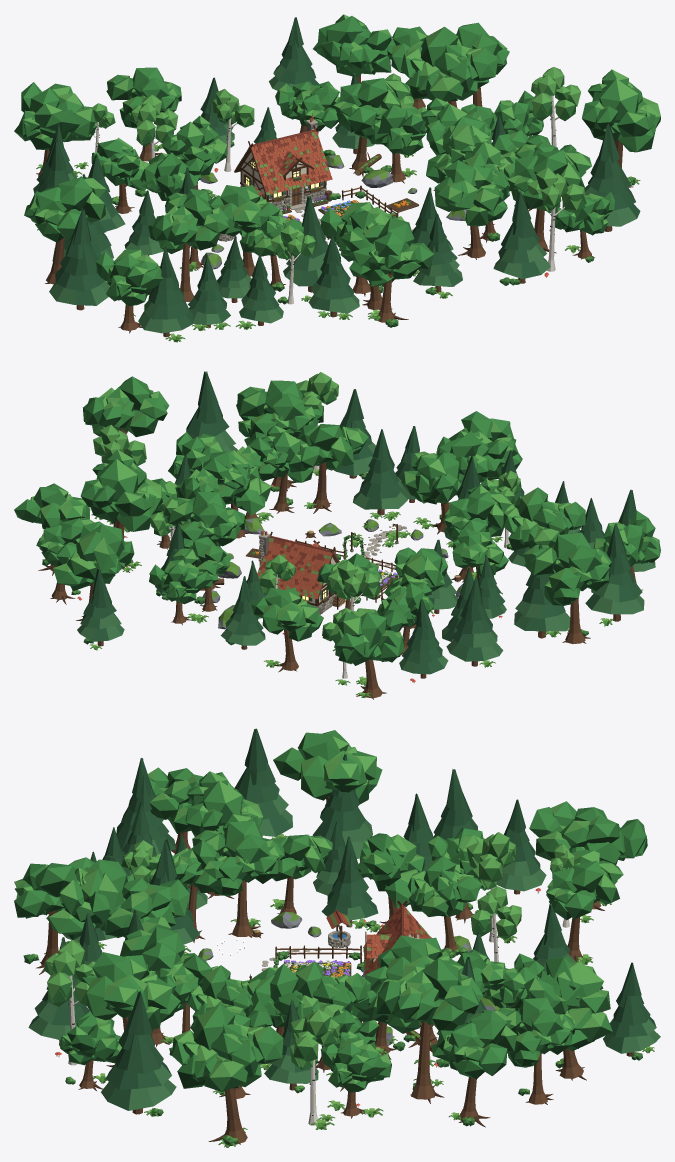
File: cottage_glade.glb
3 renders of one model, top to bottom at view 1: azimuth 30°, elevation 25°; view 2: azimuth 150°, elevation 25°; view 3: azimuth 270°, elevation 25°, orthographic. The views are drawn at different scales.
Visible parts, largest first — view 1: 小屋, 広葉樹.024, 広葉樹.023, 広葉樹.021, 広葉樹.025, 広葉樹.030, 広葉樹.006, 広葉樹.016, 広葉樹.020, 針葉樹.011, 広葉樹.026, 広葉樹.014 (+47 smaller); view 2: 広葉樹.030, 広葉樹.024, 広葉樹.025, 広葉樹.017, 広葉樹.023, 広葉樹.020, 小屋, 広葉樹.016, 広葉樹.006, 広葉樹.031, 広葉樹.014, 広葉樹.009 (+41 smaller); view 3: 広葉樹.023, 広葉樹.024, 広葉樹.025, 広葉樹.020, 広葉樹.030, 広葉樹.017, 針葉樹.012, 広葉樹.010, 広葉樹.018, 広葉樹.028, 広葉樹.009, 広葉樹.021 (+44 smaller).
Part boxes in pixels (x1=…): 小屋: x1=234, y1=116, x2=332, y2=210; 広葉樹.024: x1=401, y1=26, x2=497, y2=107; 広葉樹.023: x1=582, y1=69, x2=660, y2=187; 広葉樹.021: x1=349, y1=217, x2=434, y2=324; 広葉樹.025: x1=14, y1=82, x2=97, y2=176; 広葉樹.030: x1=24, y1=176, x2=106, y2=284; 広葉樹.006: x1=434, y1=160, x2=507, y2=259; 広葉樹.016: x1=148, y1=194, x2=229, y2=301; 広葉樹.020: x1=313, y1=14, x2=391, y2=83; 針葉樹.011: x1=49, y1=209, x2=109, y2=310; 広葉樹.026: x1=96, y1=249, x2=162, y2=333; 広葉樹.014: x1=333, y1=78, x2=409, y2=177; 広葉樹.030: x1=523, y1=532, x2=611, y2=643; 広葉樹.024: x1=80, y1=449, x2=162, y2=572; 広葉樹.025: x1=330, y1=599, x2=407, y2=699; 広葉樹.017: x1=236, y1=380, x2=323, y2=491; 広葉樹.023: x1=83, y1=376, x2=169, y2=436; 広葉樹.020: x1=53, y1=521, x2=134, y2=620; 小屋: x1=257, y1=531, x2=345, y2=614; 広葉樹.016: x1=503, y1=487, x2=585, y2=550; 広葉樹.006: x1=296, y1=424, x2=368, y2=513; 広葉樹.031: x1=251, y1=588, x2=323, y2=672; 広葉樹.014: x1=167, y1=491, x2=244, y2=590; 広葉樹.009: x1=401, y1=436, x2=464, y2=534; 広葉樹.023: x1=172, y1=1004, x2=283, y2=1147; 広葉樹.024: x1=376, y1=957, x2=483, y2=1103; 広葉樹.025: x1=529, y1=801, x2=647, y2=910; 広葉樹.020: x1=524, y1=956, x2=612, y2=1080; 広葉樹.030: x1=273, y1=730, x2=382, y2=804; 広葉樹.017: x1=81, y1=952, x2=180, y2=1067; 針葉樹.012: x1=101, y1=991, x2=176, y2=1114; 広葉樹.010: x1=192, y1=821, x2=284, y2=937; 広葉樹.018: x1=431, y1=1010, x2=516, y2=1127; 広葉樹.028: x1=498, y1=997, x2=575, y2=1104; 広葉樹.009: x1=89, y1=878, x2=189, y2=937; 広葉樹.021: x1=14, y1=863, x2=87, y2=974.
Size of the model in its own units: 65.39 by 12.37 by 53.31.
